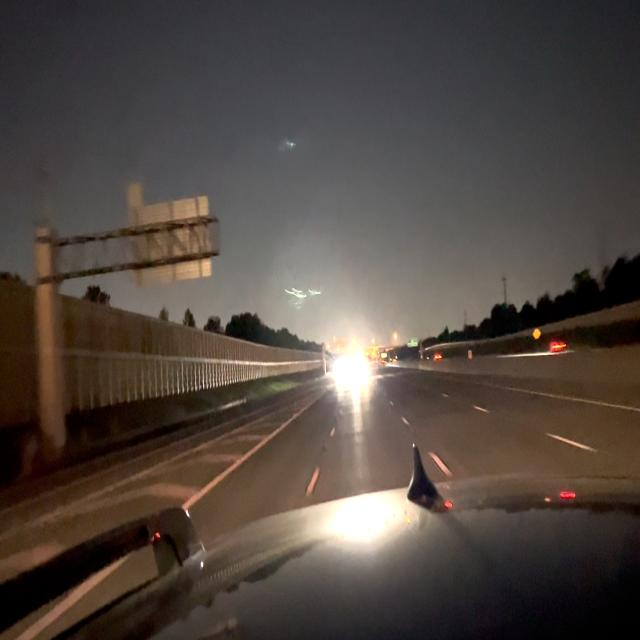back-of-sign: (127, 196, 212, 281), (129, 178, 140, 208)
